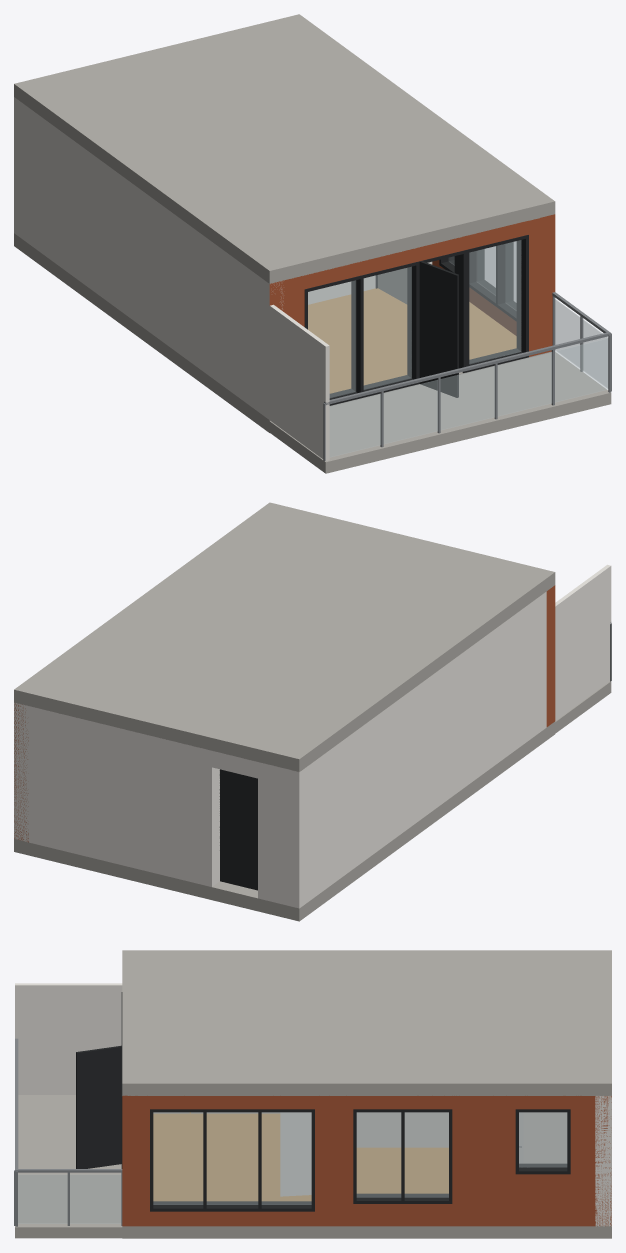
The model's file is HOEF-163.glb.
3 views of the same model, one above another, from view 1: azimuth 30°, elevation 25°; view 2: azimuth 150°, elevation 25°; view 3: azimuth 270°, elevation 25° (orthographic). The views are drawn at different scales.
Parts seen in each view (by area): view 1: plafond, HOEF-Ede-Appartement-163, balkon, balkonplaat, vloer, privacyscherm, vloerplaat; view 2: plafond, HOEF-Ede-Appartement-163, vloerplaat, privacyscherm, balkonplaat; view 3: plafond, HOEF-Ede-Appartement-163, vloer (×2), balkonplaat, privacyscherm, vloerplaat, balkon.
Boxes of the visible parts, <box> form: plafond: <box>14,14,555,283</box>; HOEF-Ede-Appartement-163: <box>14,97,555,419</box>; balkon: <box>323,292,611,461</box>; balkonplaat: <box>269,352,611,473</box>; vloer: <box>308,288,516,393</box>; privacyscherm: <box>269,304,329,460</box>; vloerplaat: <box>14,233,551,432</box>; plafond: <box>14,502,555,771</box>; HOEF-Ede-Appartement-163: <box>14,585,555,908</box>; vloerplaat: <box>14,721,555,921</box>; privacyscherm: <box>555,564,611,720</box>; balkonplaat: <box>555,681,611,733</box>; plafond: <box>122,950,611,1095</box>; HOEF-Ede-Appartement-163: <box>76,992,611,1226</box>; vloer (×2): <box>153,1112,448,1201</box>; balkonplaat: <box>15,1095,122,1238</box>; privacyscherm: <box>15,983,122,1094</box>; vloerplaat: <box>122,1226,611,1238</box>; balkon: <box>14,1038,122,1226</box>.
Size of the model in its own units: 5.77 by 3.12 by 10.87.
